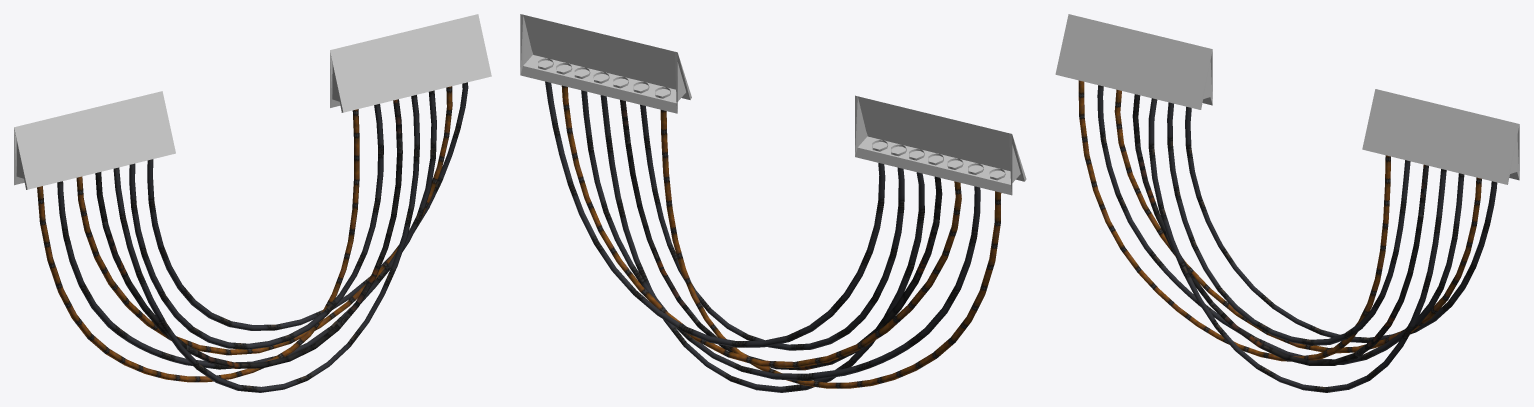
Rendered from Prop_wall_02_wire_01.FBX.
3 renders of one model, left to right at view 1: azimuth 30°, elevation 25°; view 2: azimuth 150°, elevation 25°; view 3: azimuth 330°, elevation 25°, orthographic. The views are drawn at different scales.
Visible parts, largest first — view 1: Prop_wall_02_wire_01; view 2: Prop_wall_02_wire_01; view 3: Prop_wall_02_wire_01.
Boxes of the visible parts, left/top/right/bottom form: Prop_wall_02_wire_01: left=14, top=14, right=491, bottom=392; Prop_wall_02_wire_01: left=520, top=14, right=1026, bottom=392; Prop_wall_02_wire_01: left=1055, top=14, right=1519, bottom=392.
Bounding box in the file's own units: 3204 × 2075 × 223.
